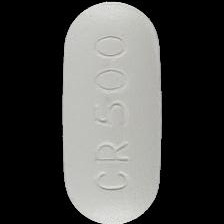11819-351: (0, 0, 224, 224)
